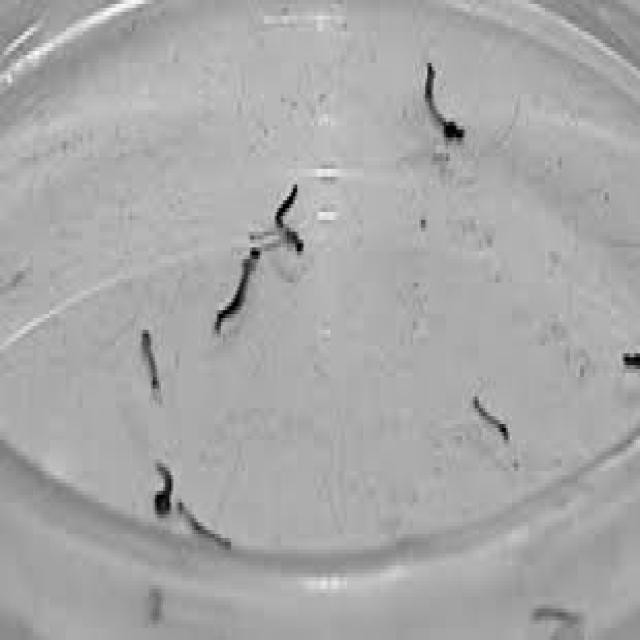larvas: (216, 248, 260, 330), (427, 65, 468, 143), (174, 498, 233, 550), (276, 185, 306, 252), (474, 402, 512, 438), (152, 463, 174, 518), (140, 329, 158, 394)
